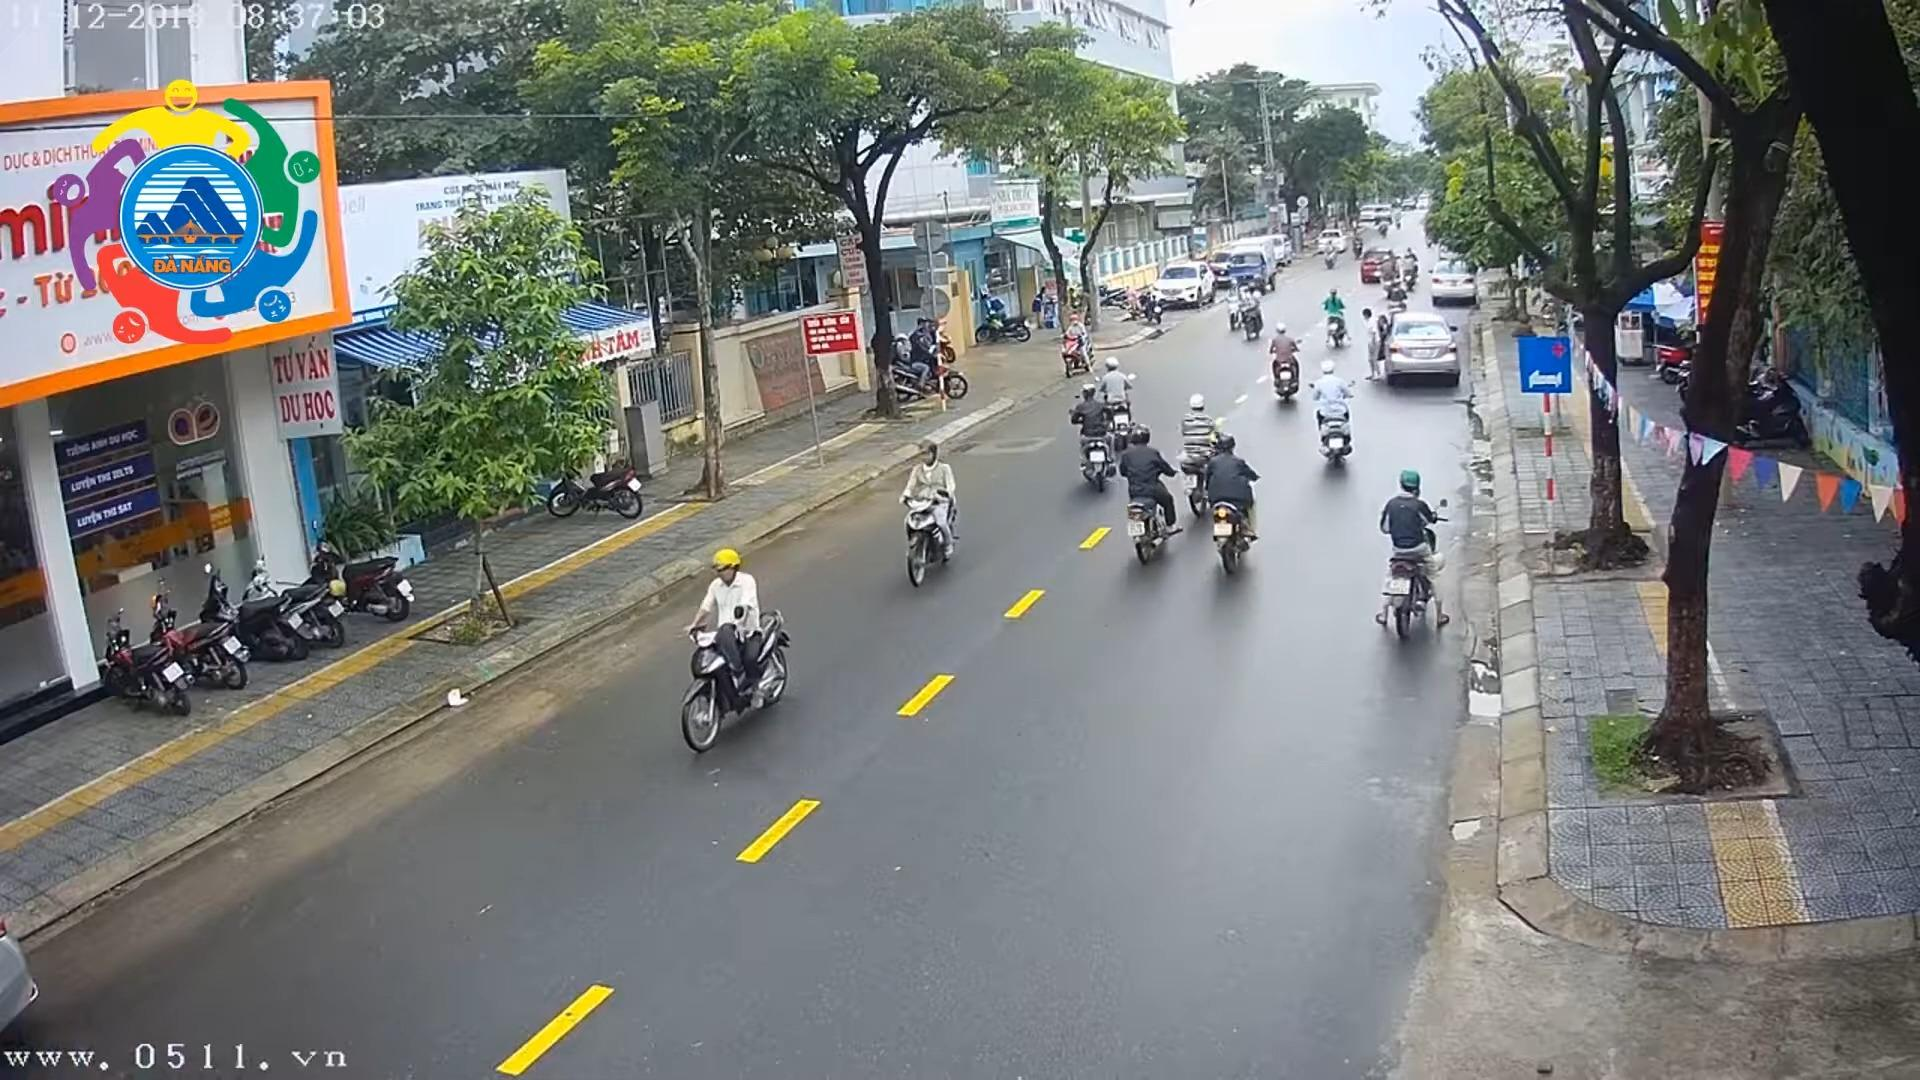car: (1374, 306, 1466, 394), (1146, 257, 1221, 310), (1425, 258, 1482, 307), (1360, 244, 1400, 286), (1319, 228, 1348, 256)
motorcycle: (651, 546, 808, 749), (1364, 465, 1457, 644), (887, 434, 977, 591), (1101, 417, 1195, 563), (1200, 427, 1280, 574), (95, 609, 196, 721), (148, 588, 251, 695), (199, 571, 313, 666), (1167, 389, 1246, 518), (302, 535, 413, 622), (241, 566, 345, 650), (1305, 355, 1370, 472), (886, 315, 971, 404), (1091, 353, 1154, 469), (1058, 382, 1124, 492), (549, 456, 645, 522), (1051, 306, 1108, 381), (1263, 319, 1308, 404), (1315, 280, 1354, 351), (972, 305, 1030, 348), (1221, 277, 1249, 338), (1244, 276, 1269, 342), (1374, 252, 1399, 298), (1402, 247, 1424, 293), (1320, 240, 1342, 272)
truck: (1224, 236, 1280, 291)
